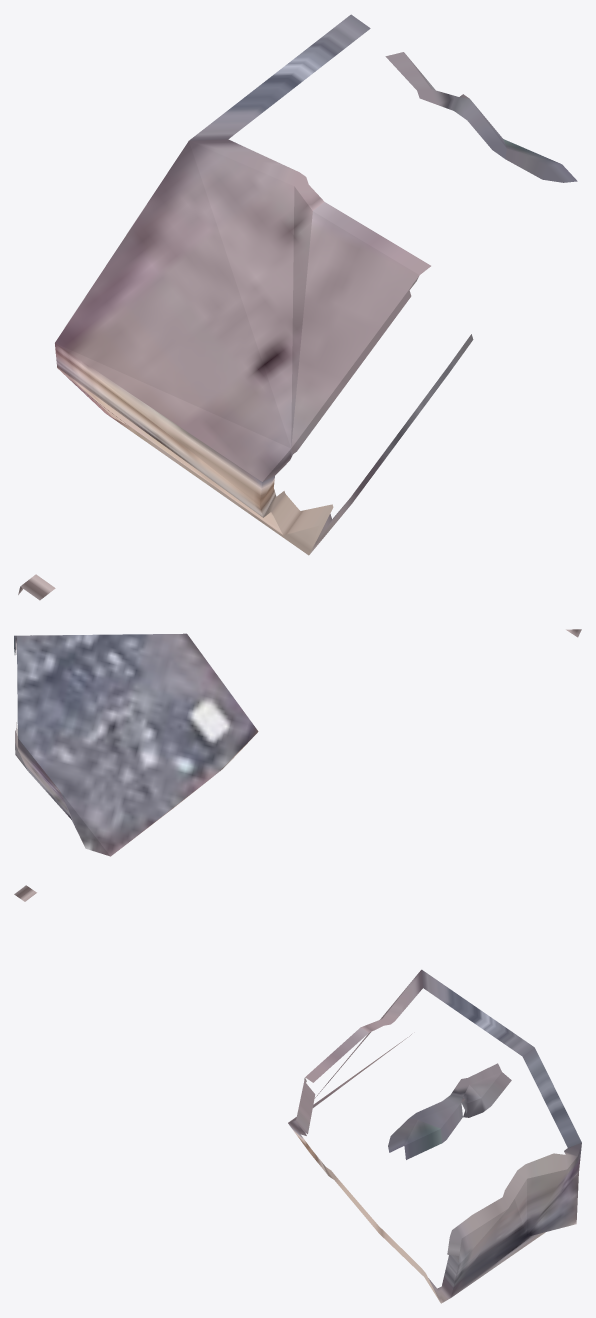
3 renders of one model, top to bottom at view 1: azimuth 30°, elevation 25°; view 2: azimuth 150°, elevation 25°; view 3: azimuth 270°, elevation 25°, orthographic. The views are drawn at different scales.
Bounding box in the file's own units: 18.17 × 9.46 × 16.65.
Materials: 1 (1 with a texture image).
